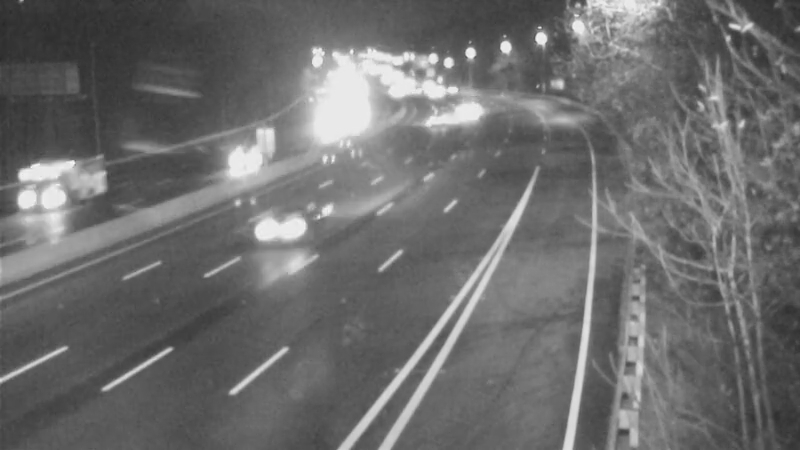vehicle: (238, 192, 318, 272), (1, 153, 81, 233), (206, 118, 286, 198), (422, 65, 472, 115), (404, 69, 454, 119), (441, 84, 491, 134), (404, 88, 454, 138)
